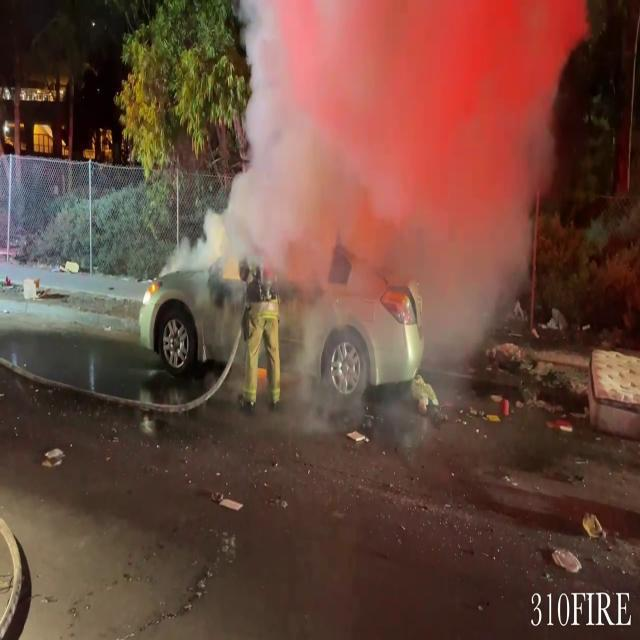Smoke: (191, 0, 587, 388)
